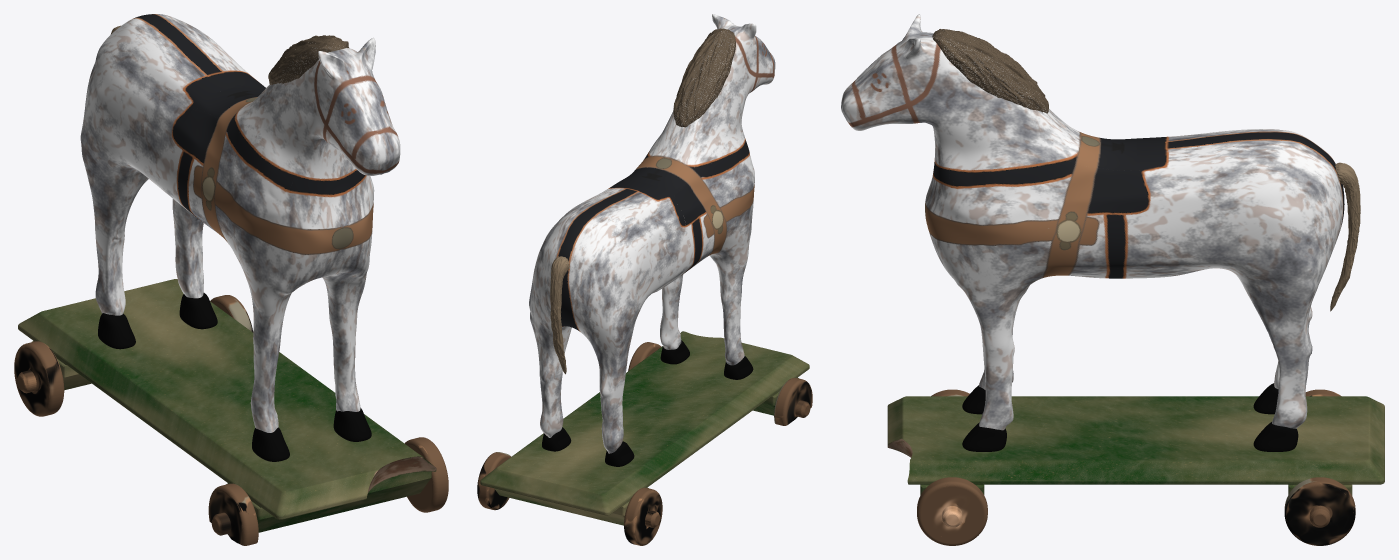
The model's file is hevonenValmis.fbx.
3 views of the same model, side by side, from view 1: azimuth 30°, elevation 25°; view 2: azimuth 150°, elevation 25°; view 3: azimuth 270°, elevation 25° (orthographic). The views are drawn at different scales.
Visible parts, largest first — view 1: Mball.002; view 2: Mball.002; view 3: Mball.002.
Part boxes in pixels (<box>): Mball.002: <box>14,14,448,545</box>; Mball.002: <box>477,14,812,545</box>; Mball.002: <box>841,14,1384,545</box>.
Size of the model in its own units: 397 by 835 by 870.
5 materials, 4 textured.
